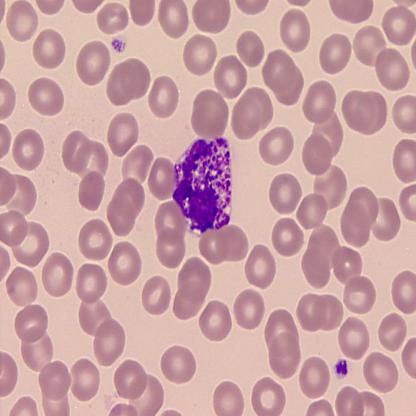Basophil: (169, 133, 235, 236)
